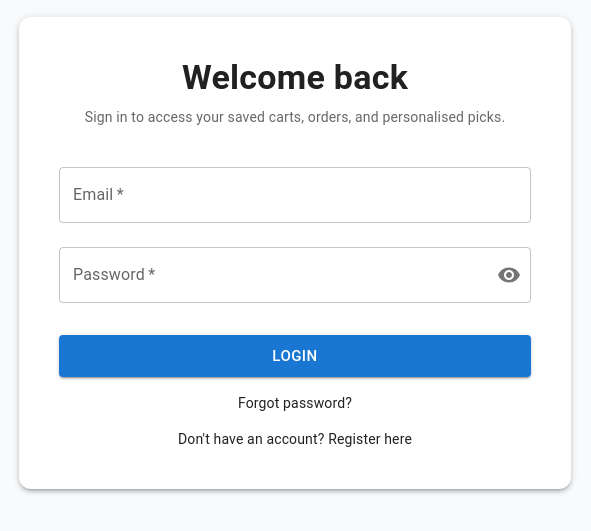
Test case: <Login /> › displays single error message from server
The width and height of the screenshot is (591, 531).
Type "u@e.com" into the field labelled "Email *" at x=295, y=195, box [59,167,531,223]
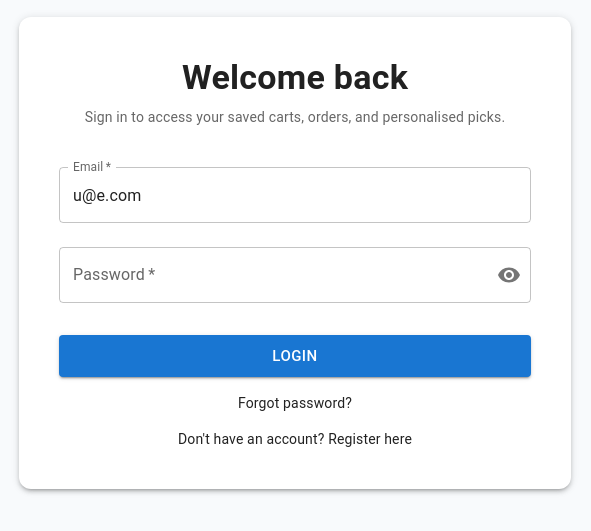
Type "secret" into the password field labelled "Password *" at x=270, y=275, box [59,247,481,303]
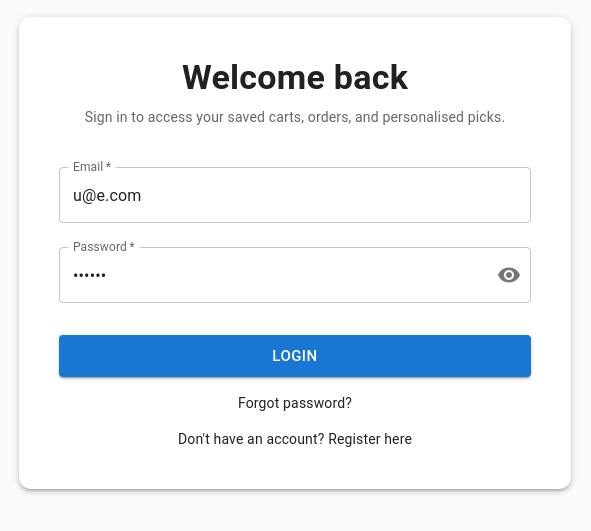
Click the button "Login" at x=295, y=356, box [59,335,531,377]
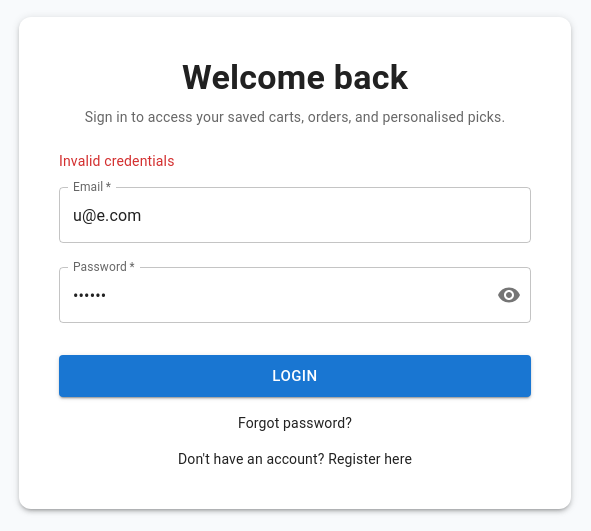
Now the text "Invalid credentials" is shown, box [59,153,174,169]
